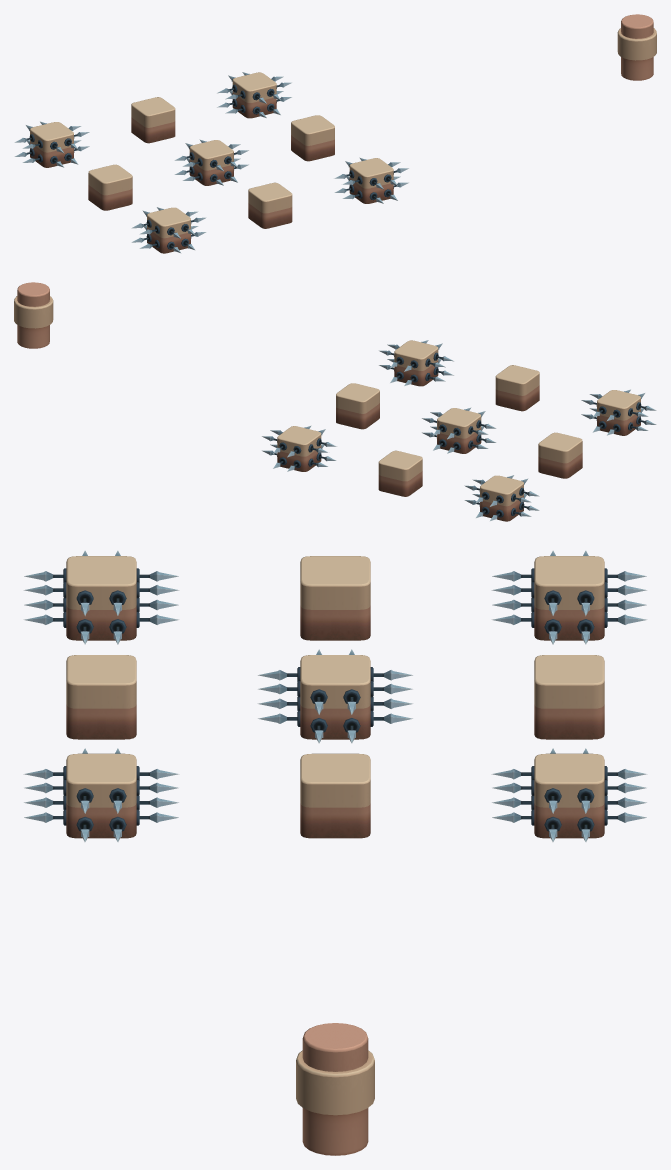
The model's file is Props.fbx.
The picture shows the model from 3 angles, top to bottom: view 1: azimuth 30°, elevation 25°; view 2: azimuth 150°, elevation 25°; view 3: azimuth 270°, elevation 25°; orthographic projection. The views are drawn at different scales.
Visible parts, largest first — view 1: Box01 (×9), Cylinder-2; view 2: Box01 (×9), Cylinder-2; view 3: Box01 (×9), Cylinder-2.
Boxes of the visible parts, left/top/right/bottom form: Box01 (×9): left=30, top=72, right=393, bottom=253; Cylinder-2: left=617, top=14, right=656, bottom=80; Box01 (×9): left=277, top=340, right=640, bottom=521; Cylinder-2: left=14, top=282, right=53, bottom=348; Box01 (×9): left=66, top=556, right=604, bottom=838; Cylinder-2: left=296, top=1023, right=374, bottom=1155.
Size of the model in its own units: 57.04 by 5 by 26.7.
Materials: 3 (3 with a texture image).
